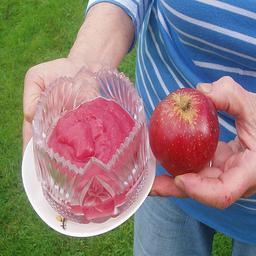apple: (147, 86, 219, 176)
